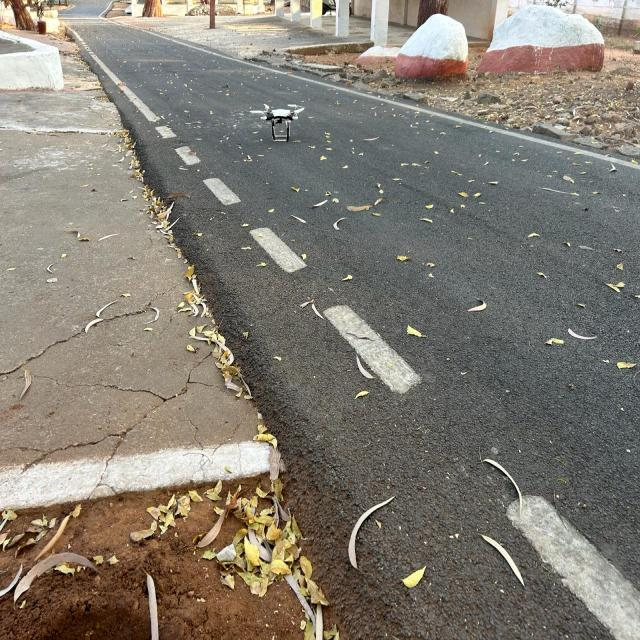drone: (235, 86, 324, 154)
